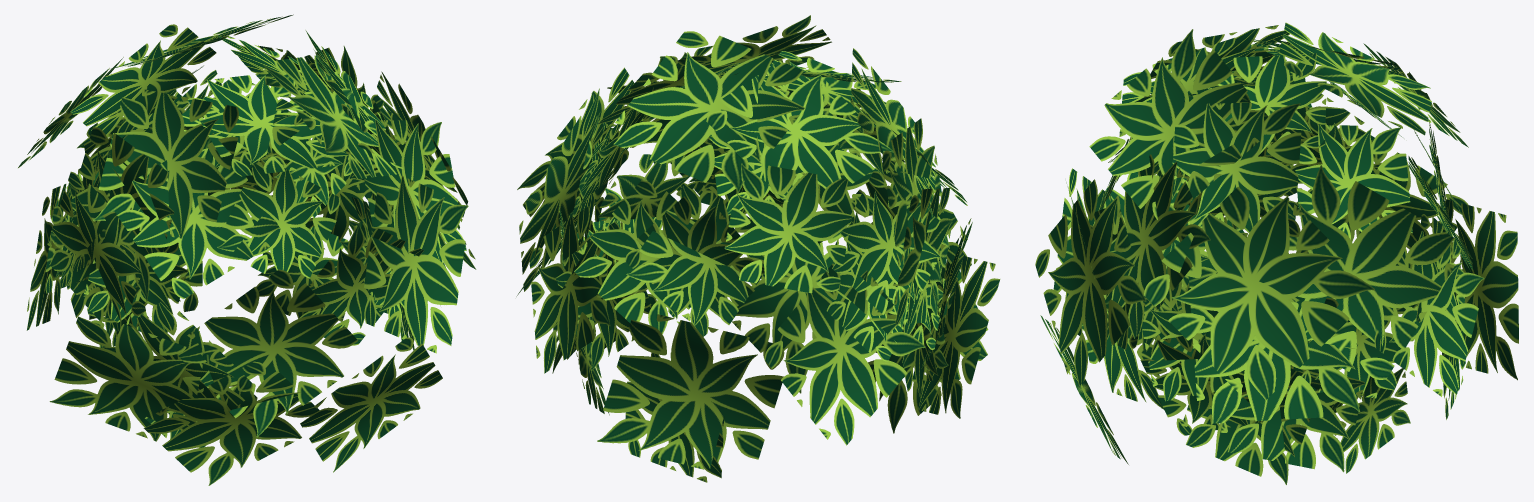
Rendered from Bush1_LOD2.fbx.
3 renders of one model, left to right at view 1: azimuth 30°, elevation 25°; view 2: azimuth 150°, elevation 25°; view 3: azimuth 270°, elevation 25°, orthographic. The views are drawn at different scales.
Visible parts, largest first — view 1: Bush1_LOD2; view 2: Bush1_LOD2; view 3: Bush1_LOD2.
Boxes of the visible parts, x1=… form: Bush1_LOD2: x1=18, y1=14, x2=476, y2=485; Bush1_LOD2: x1=516, y1=15, x2=1000, y2=482; Bush1_LOD2: x1=1035, y1=22, x2=1518, y2=484.
Bounding box in the file's own units: 388 × 365 × 382.
